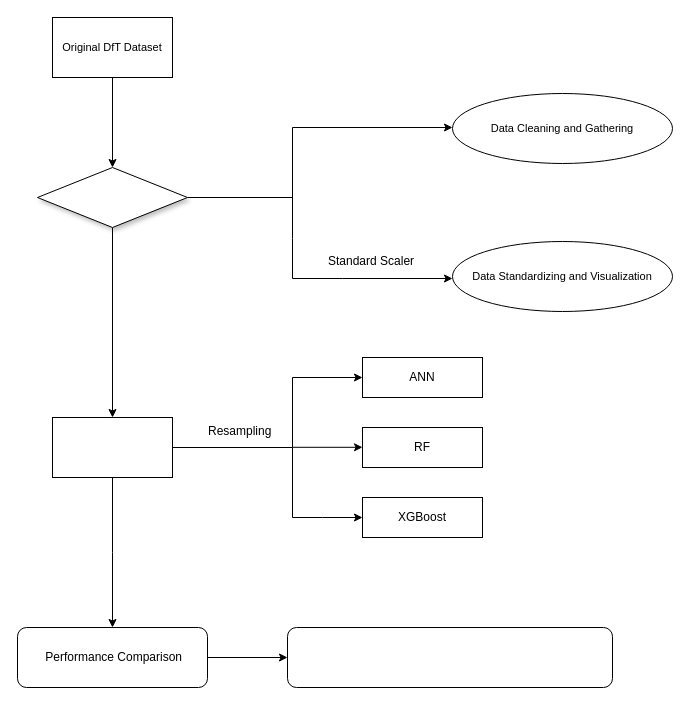
This 690x705 diagram has some shape labels left out. The shapes that lost their labels are listed below. From the top down, each one's centre as x and y in pixels, then its label:
the point at 113,198: Data Preprocess
the point at 112,447: Machine Learning
the point at 449,657: Evaluation & Feature Importance Effect & SHAP Analysis
